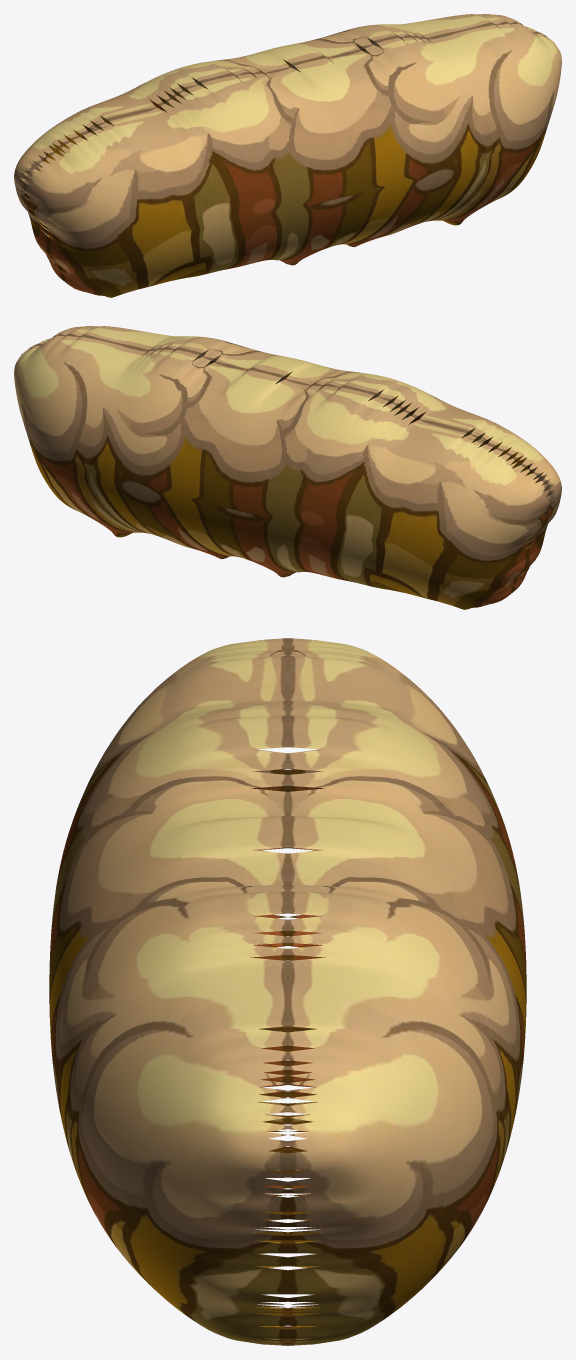
File: terrace_cliff.glb
The picture shows the model from 3 angles, top to bottom: view 1: azimuth 30°, elevation 25°; view 2: azimuth 150°, elevation 25°; view 3: azimuth 270°, elevation 25°; orthographic projection. The views are drawn at different scales.
Visible parts, largest first — view 1: terrace_cliff; view 2: terrace_cliff; view 3: terrace_cliff.
Part boxes in pixels (<box>): terrace_cliff: <box>14,14,561,297</box>; terrace_cliff: <box>14,326,561,609</box>; terrace_cliff: <box>49,638,526,1345</box>.
Size of the model in its own units: 0.989 by 0.3216 by 0.3865.
1 material, 1 textured.
